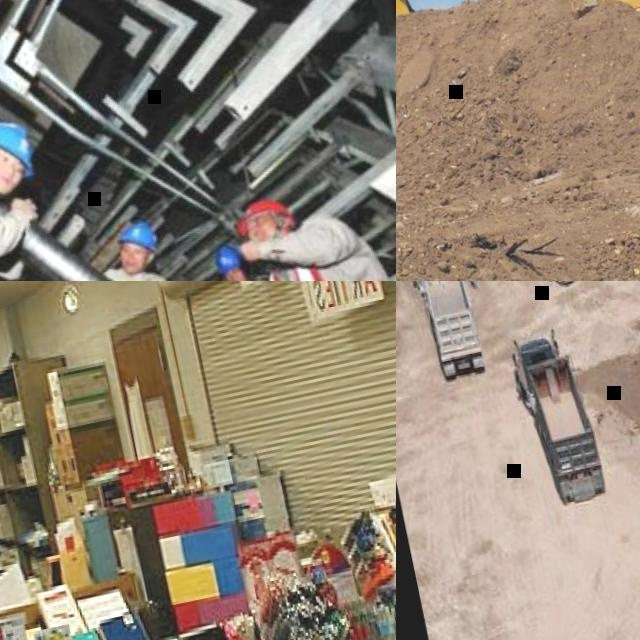Hardhat: (232, 193, 297, 235), (0, 115, 38, 178), (112, 219, 162, 261), (214, 246, 243, 276)
NO-Mask: (252, 221, 288, 245), (0, 165, 18, 195), (123, 257, 143, 274), (232, 270, 250, 281)
Person: (180, 162, 396, 281), (80, 209, 244, 281), (216, 235, 293, 281)
Safety Vest: (264, 241, 394, 281)
machinery: (396, 0, 640, 145), (504, 323, 611, 512), (401, 281, 488, 384)
